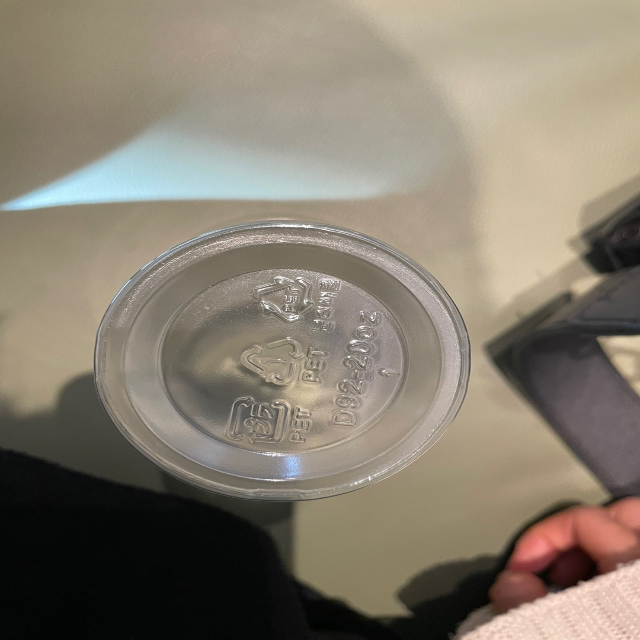pet: (251, 263, 344, 332), (220, 386, 316, 449), (232, 333, 332, 392)
